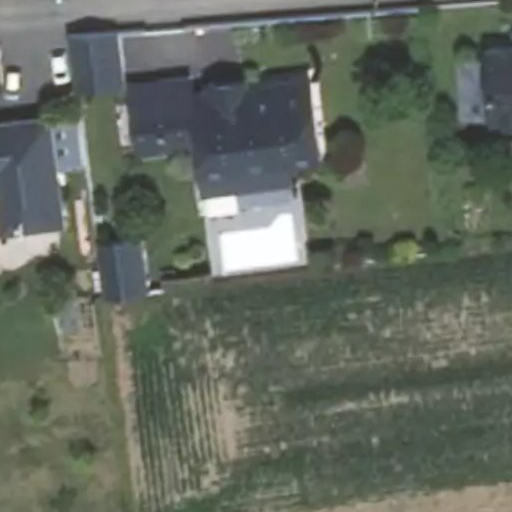pool: (215, 223, 294, 260)
